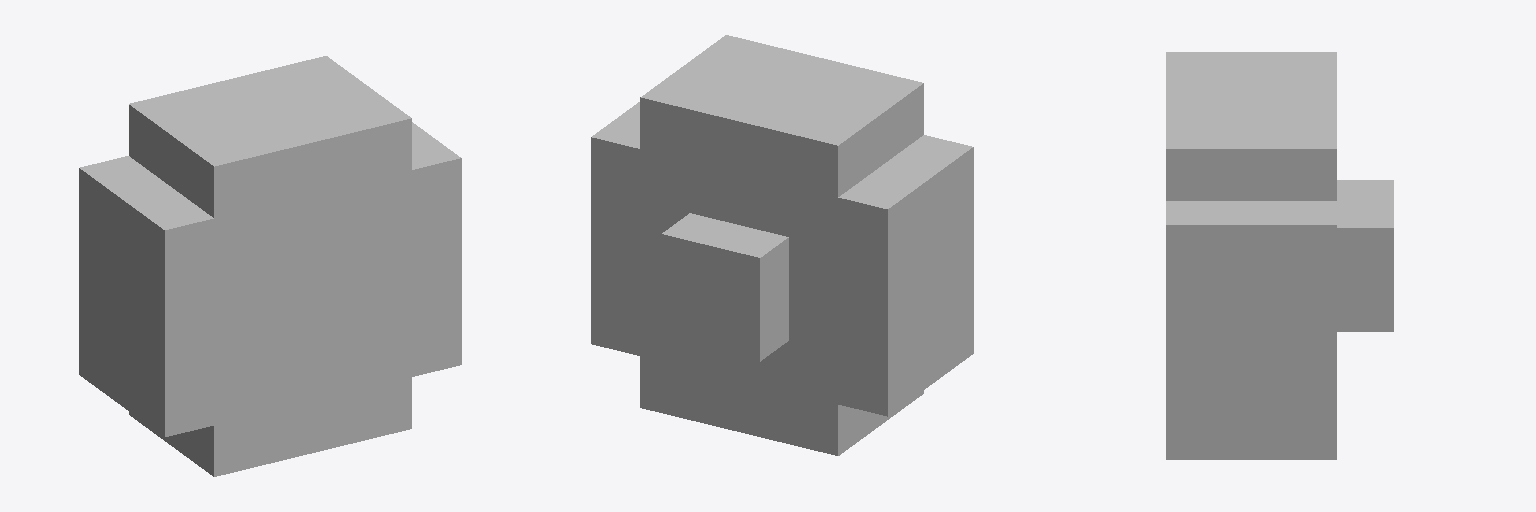
The model's file is Kart-2.obj.
3 views of the same model, side by side, from view 1: azimuth 30°, elevation 25°; view 2: azimuth 150°, elevation 25°; view 3: azimuth 270°, elevation 25° (orthographic).
Visible parts, largest first — view 1: Kart-2.001; view 2: Kart-2.001; view 3: Kart-2.001.
Boxes of the visible parts, x1=… form: Kart-2.001: x1=79, y1=56, x2=461, y2=476; Kart-2.001: x1=591, y1=35, x2=973, y2=455; Kart-2.001: x1=1166, y1=52, x2=1393, y2=459.
Bounding box in the file's own units: 0.6 × 0.6 × 0.4.